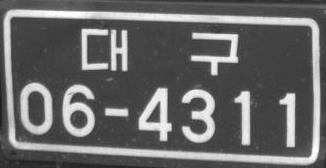0: (19, 81, 52, 135)
1: (271, 91, 304, 148), (229, 89, 262, 145)
3: (181, 86, 215, 143)
4: (138, 86, 172, 142)
6: (60, 82, 96, 138)
대구_D: (80, 27, 239, 77)
